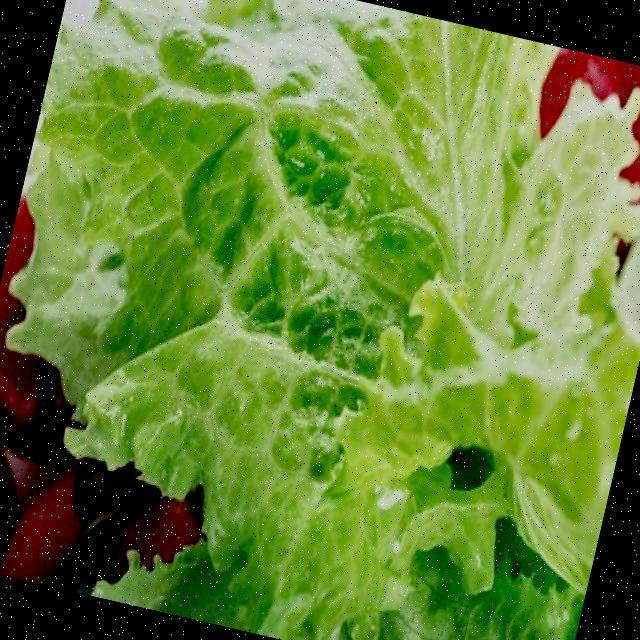Healthy: (76, 0, 542, 505)
